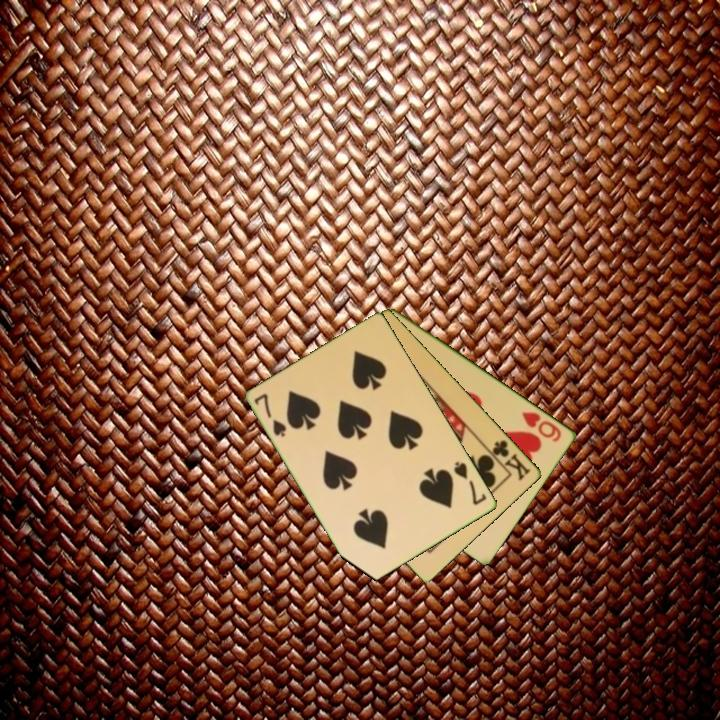6h: (518, 408, 565, 445)
7s: (451, 458, 490, 508), (251, 390, 290, 440)
Kc: (483, 436, 534, 484)
